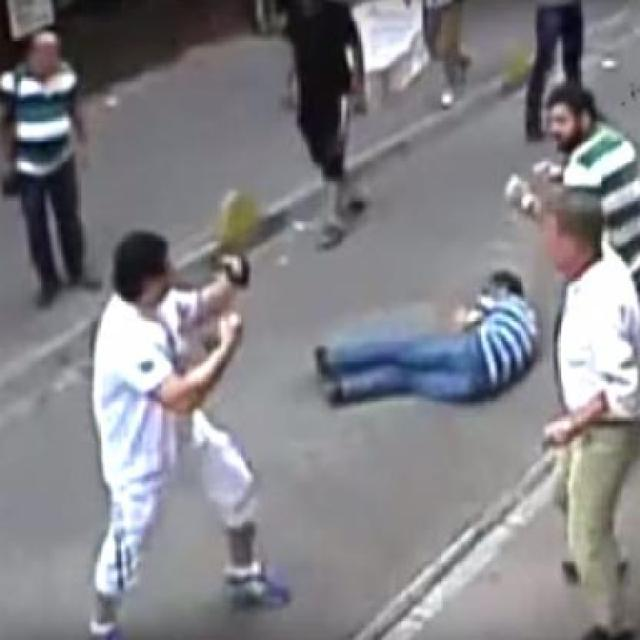fight: (26, 87, 637, 640), (267, 0, 404, 258), (0, 12, 89, 322)
